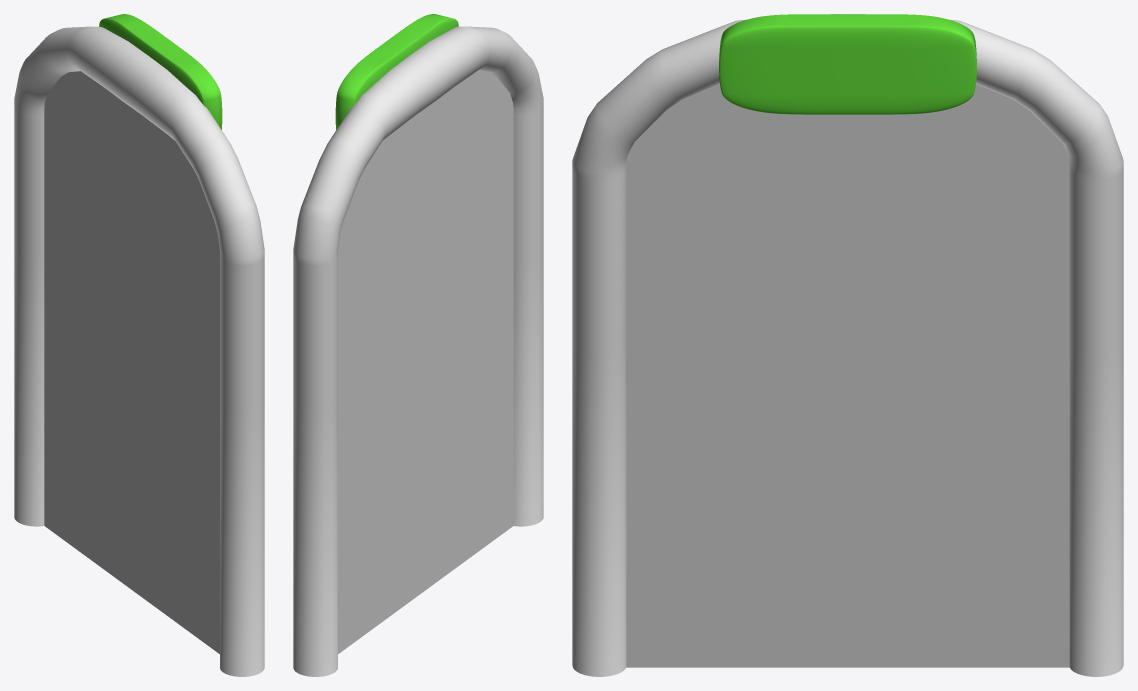
Rendered from Door.fbx.
3 renders of one model, left to right at view 1: azimuth 30°, elevation 25°; view 2: azimuth 150°, elevation 25°; view 3: azimuth 270°, elevation 25°, orthographic. The views are drawn at different scales.
Parts seen in each view (by area): view 1: Cube, popcorn door, free text; view 2: Cube, popcorn door, free text; view 3: Cube, popcorn door, free text.
Boxes of the visible parts, <box> form: Cube: <box>44,71,219,653</box>; popcorn door: <box>14,26,264,676</box>; free text: <box>99,14,222,129</box>; Cube: <box>338,71,513,653</box>; popcorn door: <box>293,26,543,676</box>; free text: <box>335,14,458,129</box>; Cube: <box>626,84,1069,667</box>; popcorn door: <box>572,14,1123,676</box>; free text: <box>719,14,976,114</box>.
Size of the model in its own units: 163 by 1488 by 1130.
